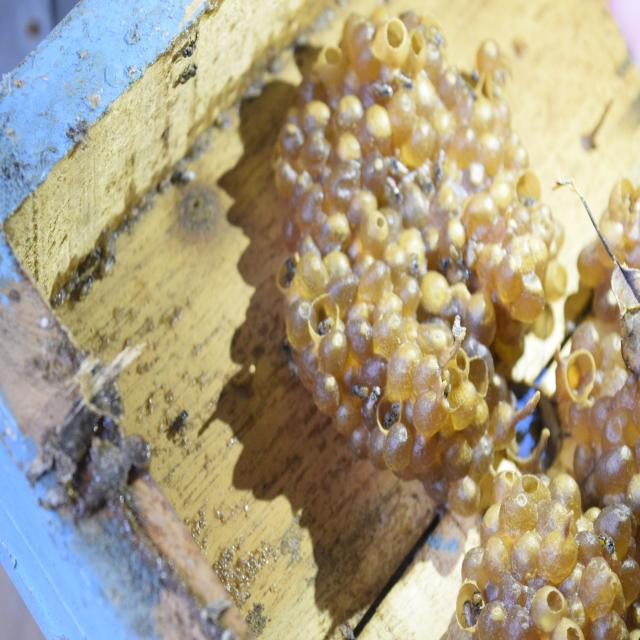honeybee: (360, 383, 385, 416), (380, 400, 403, 434), (177, 58, 201, 88), (97, 249, 118, 283), (599, 532, 619, 566), (313, 311, 334, 343), (461, 77, 482, 108), (74, 274, 95, 304), (170, 406, 188, 440), (178, 34, 200, 61), (278, 258, 298, 286), (371, 80, 394, 104), (349, 379, 371, 404), (432, 151, 448, 185), (417, 165, 435, 195), (466, 225, 482, 258), (384, 176, 404, 202), (459, 59, 481, 82), (435, 252, 453, 280), (392, 71, 414, 93), (459, 598, 474, 630), (457, 256, 472, 284), (428, 26, 446, 49), (388, 157, 404, 182), (472, 589, 486, 617), (409, 251, 422, 281), (522, 190, 536, 210)
